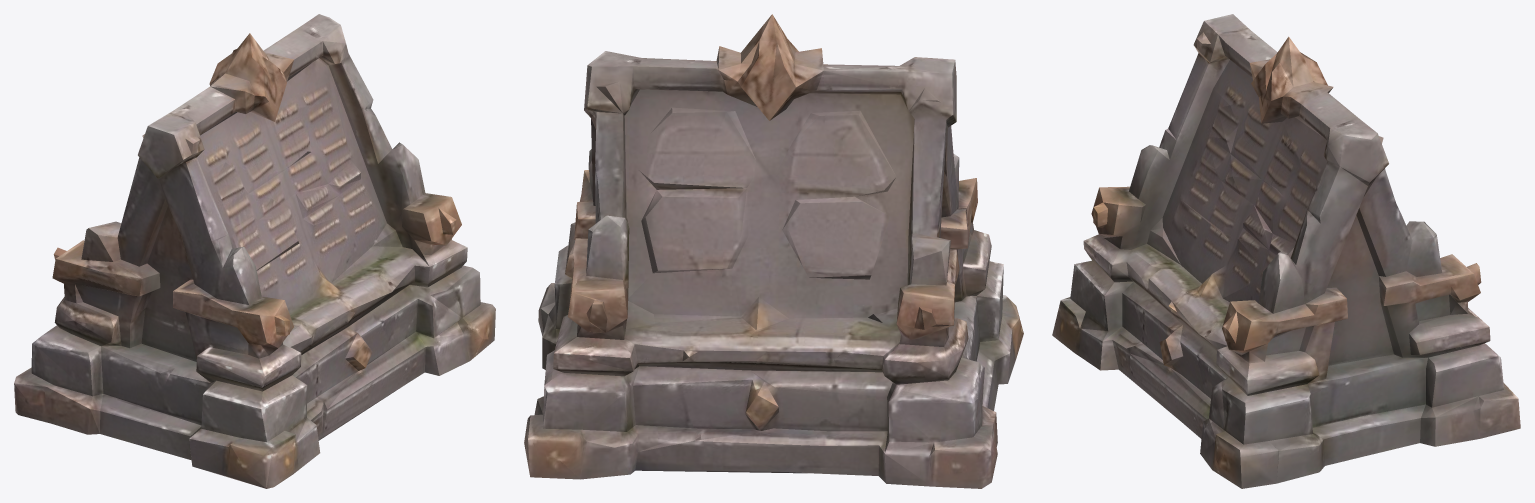
File: hub_credits_stone.glb
The picture shows the model from 3 angles, left to right: view 1: azimuth 30°, elevation 25°; view 2: azimuth 150°, elevation 25°; view 3: azimuth 270°, elevation 25°; orthographic projection. The views are drawn at different scales.
Parts seen in each view (by area): view 1: body; view 2: body; view 3: body.
Part boxes in pixels (x1=…): body: x1=14, y1=14, x2=495, y2=488; body: x1=524, y1=14, x2=1023, y2=488; body: x1=1052, y1=14, x2=1520, y2=488.
Size of the model in its own units: 2.2 by 1.68 by 2.05.
1 material, 1 textured.
